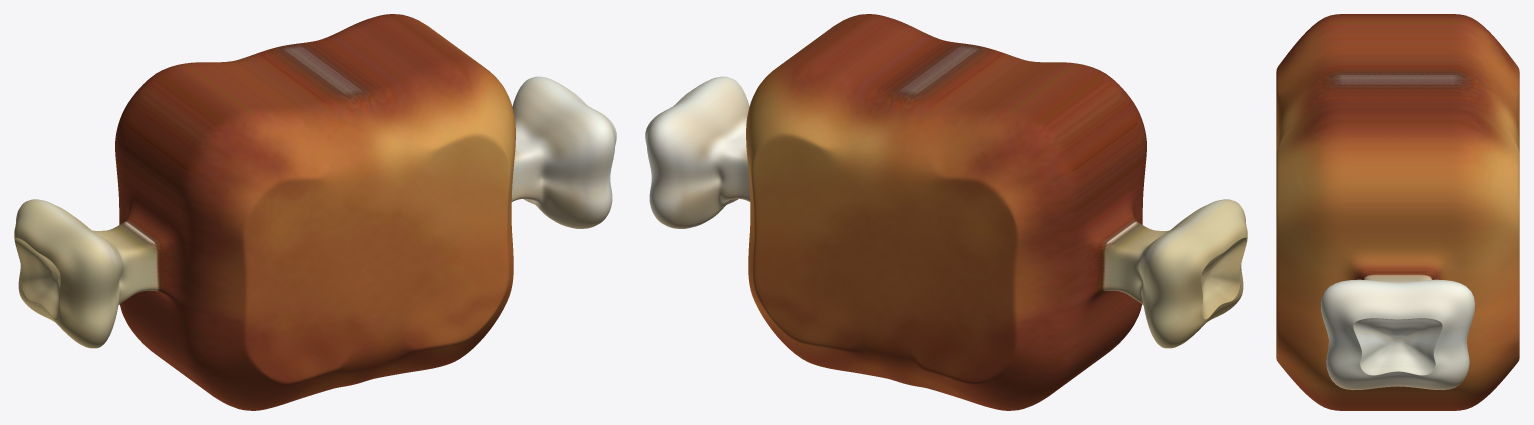
File: One Piece Meat.fbx
The picture shows the model from 3 angles, left to right: view 1: azimuth 30°, elevation 25°; view 2: azimuth 150°, elevation 25°; view 3: azimuth 270°, elevation 25°; orthographic projection.
Visible parts, largest first — view 1: pCube1; view 2: pCube1; view 3: pCube1.
Boxes of the visible parts, left/top/right/bottom form: pCube1: left=14, top=14, right=616, bottom=410; pCube1: left=645, top=14, right=1247, bottom=410; pCube1: left=1276, top=14, right=1519, bottom=410.
Size of the model in its own units: 9.07 by 4.64 by 3.48.
Materials: 1 (1 with a texture image).
